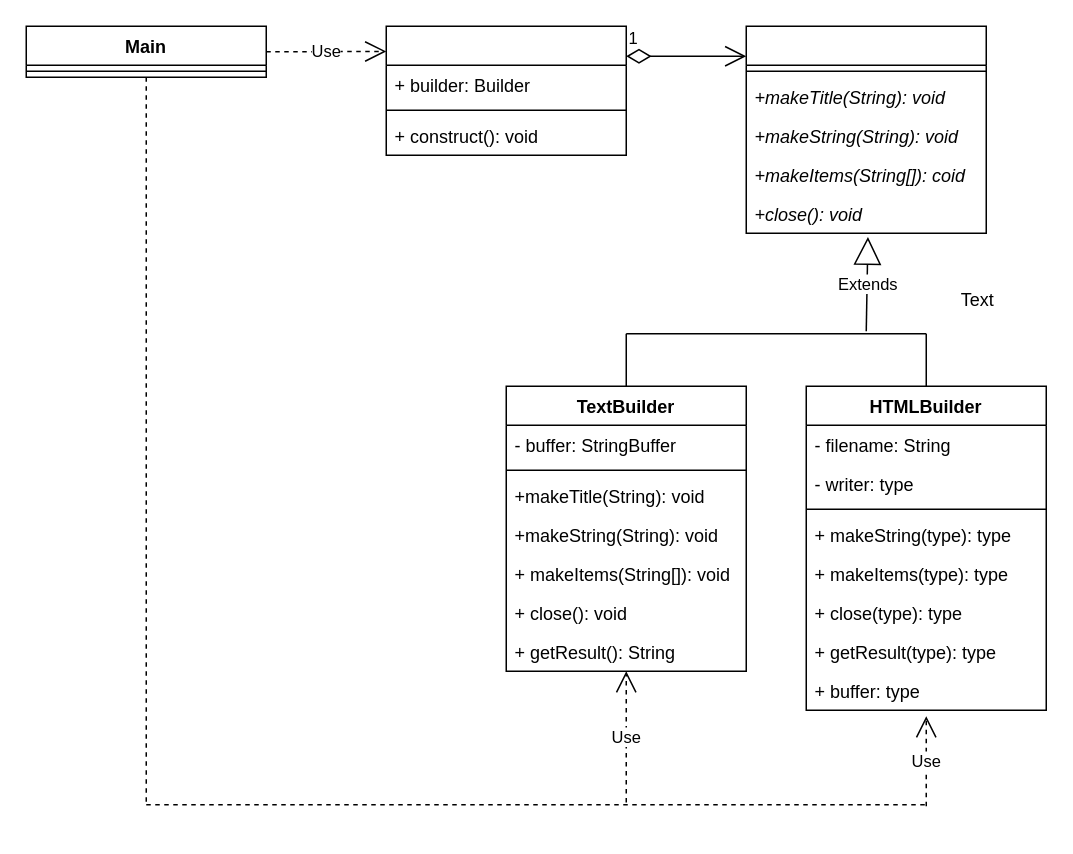
Some shapes in this 1073 by 854 pixel diagram are drawn without their labels. Here are the shapes that lost their labels. From the top down, the box of each, then its label:
(385, 25, 626, 155): Director
(745, 25, 986, 233): Builder
